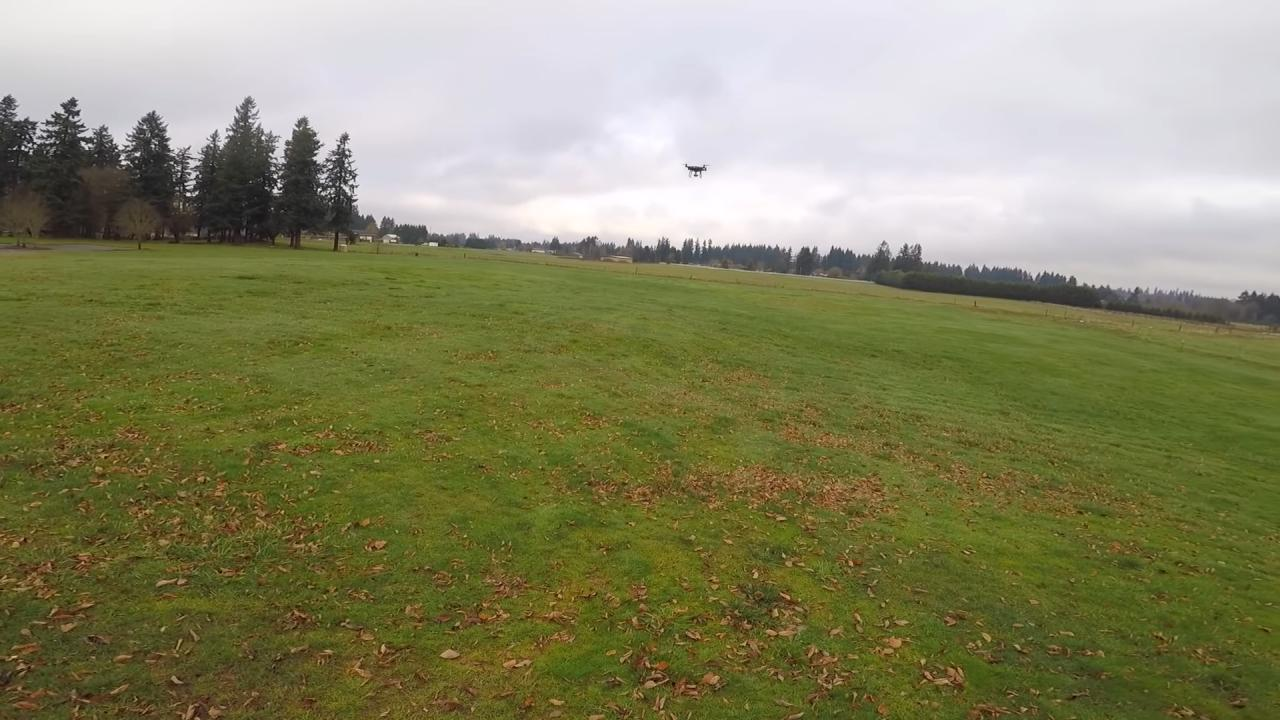Drone: (674, 152, 717, 188)
